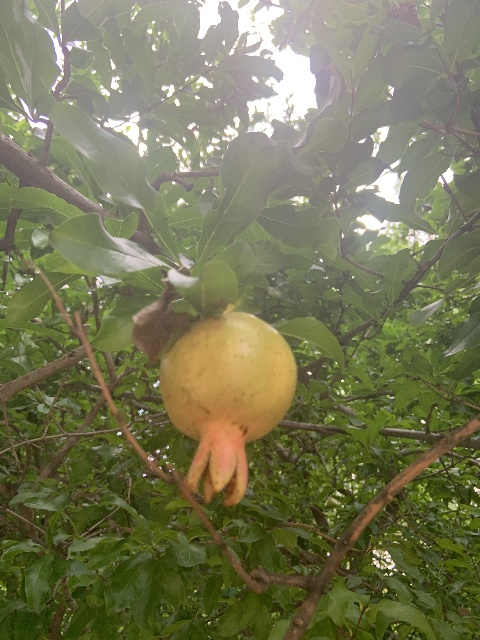mid-growth: (158, 311, 297, 510)
